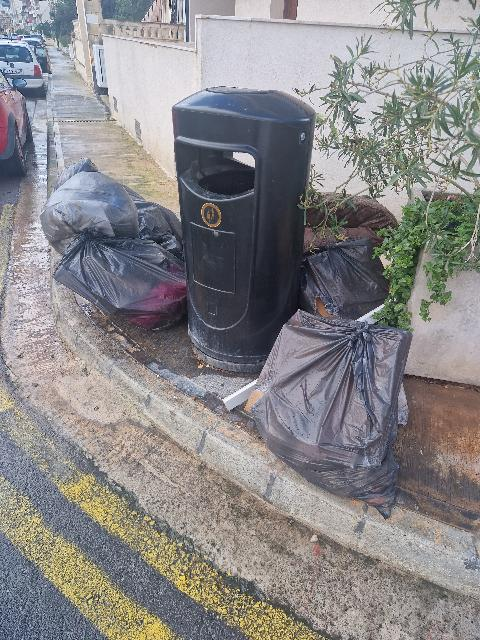Recyclable -Grey-: (250, 310, 412, 516), (53, 230, 186, 328), (40, 172, 139, 254), (299, 238, 389, 320), (124, 186, 183, 260), (53, 158, 100, 192)
